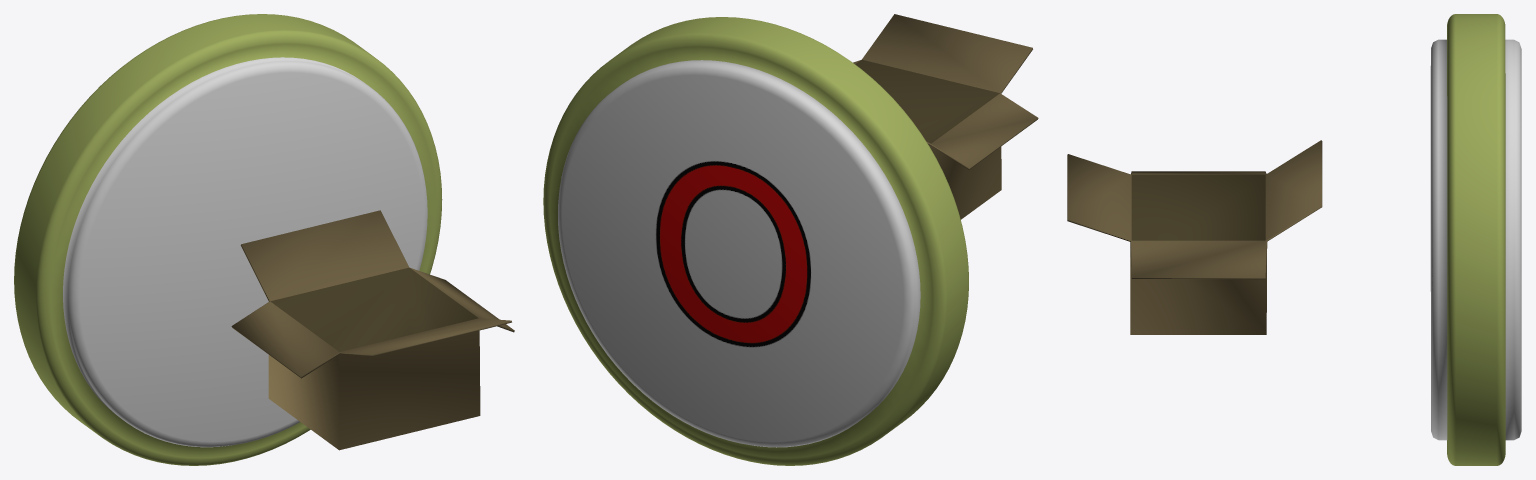
3 views of the same model, side by side, from view 1: azimuth 30°, elevation 25°; view 2: azimuth 150°, elevation 25°; view 3: azimuth 270°, elevation 25° (orthographic). The views are drawn at different scales.
Visible parts, largest first — view 1: coin, Plane; view 2: coin, Plane; view 3: coin, Plane.
Part boxes in pixels (left/top/right/bottom): coin: left=14, top=14, right=442, bottom=465; Plane: left=231, top=210, right=514, bottom=450; coin: left=543, top=17, right=968, bottom=465; Plane: left=853, top=14, right=1038, bottom=219; coin: left=1430, top=14, right=1521, bottom=465; Plane: left=1067, top=140, right=1322, bottom=334.
Size of the model in its own units: 2.56 by 2.56 by 2.57.
6 materials, 1 textured.
